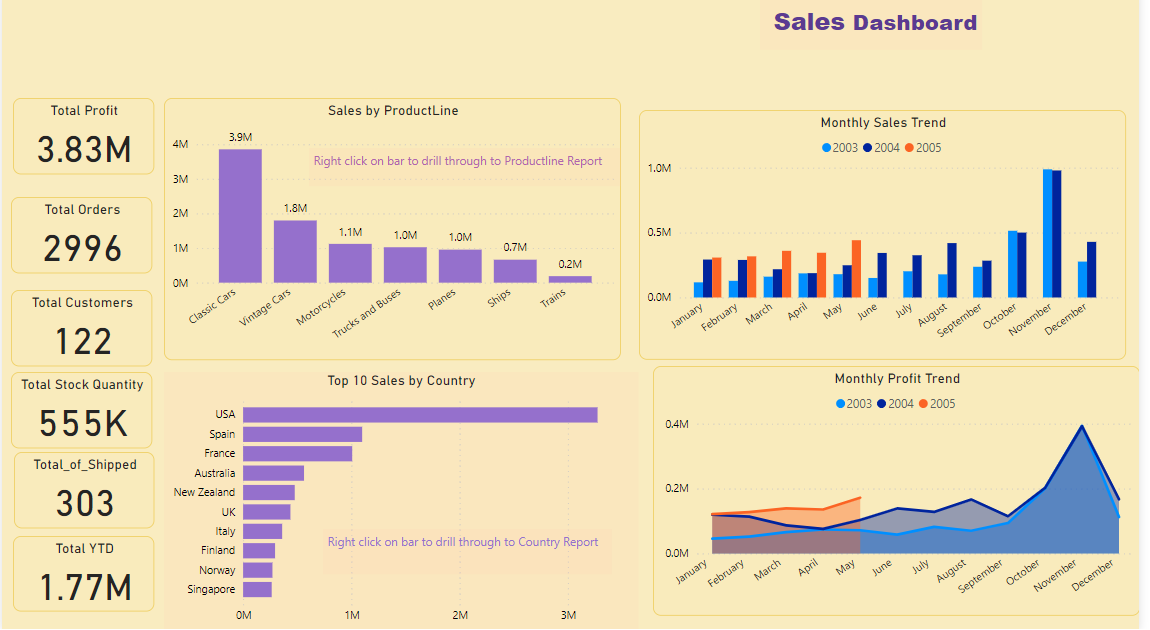

This screenshot's page, from the dashboard's own definition file:
{"tool":"powerbi","page":{"name":"Page 1","canvas":[1280,720],"ordinal":0},"visuals":[{"type":"clusteredColumnChart","title":"Sales by ProductLine","fields":{"Category":["products.productLine"],"Y":["Sum(orderdetails.Sales)"]},"box":[182.2,120.4,514.1,294.8],"z":0},{"type":"barChart","title":"Top 10 Sales by Country","fields":{"Category":["customers.country"],"Y":["Sum(orderdetails.Sales)"]},"box":[182.2,428.6,534.4,291.4],"z":1000},{"type":"textbox","box":[852.8,10.1,249.8,56.2],"z":2000},{"type":"clusteredColumnChart","title":"Monthly Sales Trend","fields":{"Category":["orders.orderDate.Variation.Date Hierarchy.Month"],"Series":["orders.orderDate.Variation.Date Hierarchy.Year"],"Y":["Sum(orderdetails.Sales)"]},"box":[716.9,119.9,547.3,281.6],"z":3000},{"type":"card","title":"Total Orders","fields":{"Values":["CountNonNull(orderdetails.orderNumber)"]},"box":[10.1,231.8,158.6,85.5],"z":4000},{"type":"card","title":"Total Customers","fields":{"Values":["CountNonNull(customers.customerNumber)"]},"box":[10.1,336.4,158.6,85.5],"z":5000},{"type":"card","title":"Total Stock Quantity","fields":{"Values":["Sum(products.quantityInStock)"]},"box":[10.1,428.6,158.6,85.5],"z":6000},{"type":"card","title":"Total Profit","fields":{"Values":["Sum(orderdetails.Profit)"]},"box":[12.4,120.4,158.6,85.5],"z":7000},{"type":"areaChart","title":"Monthly Profit Trend","fields":{"Category":["orders.orderDate.Variation.Date Hierarchy.Month"],"Series":["orders.orderDate.Variation.Date Hierarchy.Year"],"Y":["Sum(orderdetails.Profit)"]},"box":[732.4,421.9,547.9,281.2],"z":8000},{"type":"textbox","box":[361.1,605.2,325.1,50.6],"z":9000},{"type":"textbox","box":[345.4,176.6,351,42.8],"z":10000},{"type":"card","title":"Total YTD","fields":{"Values":["MeasureTable.Total YTD"]},"box":[12.4,532.1,158.6,85.5],"z":11000},{"type":"actionButton","box":[0,0,100,40],"z":11001}]}

Visuals, with their boxes in screenshot pixels (x1, y1, x2, y2), scaled from the page's 1280x720 canvas onto the 1150x630 screenshot:
"Sales by ProductLine" clusteredColumnChart: {"left": 164, "top": 105, "right": 626, "bottom": 363}
"Top 10 Sales by Country" barChart: {"left": 164, "top": 375, "right": 644, "bottom": 629}
textbox: {"left": 766, "top": 9, "right": 991, "bottom": 58}
"Monthly Sales Trend" clusteredColumnChart: {"left": 644, "top": 105, "right": 1136, "bottom": 351}
"Total Orders" card: {"left": 9, "top": 203, "right": 152, "bottom": 278}
"Total Customers" card: {"left": 9, "top": 294, "right": 152, "bottom": 369}
"Total Stock Quantity" card: {"left": 9, "top": 375, "right": 152, "bottom": 450}
"Total Profit" card: {"left": 11, "top": 105, "right": 154, "bottom": 180}
"Monthly Profit Trend" areaChart: {"left": 658, "top": 369, "right": 1149, "bottom": 615}
textbox: {"left": 324, "top": 530, "right": 617, "bottom": 574}
textbox: {"left": 310, "top": 155, "right": 626, "bottom": 192}
"Total YTD" card: {"left": 11, "top": 466, "right": 154, "bottom": 540}
actionButton: {"left": 0, "top": 0, "right": 90, "bottom": 35}
